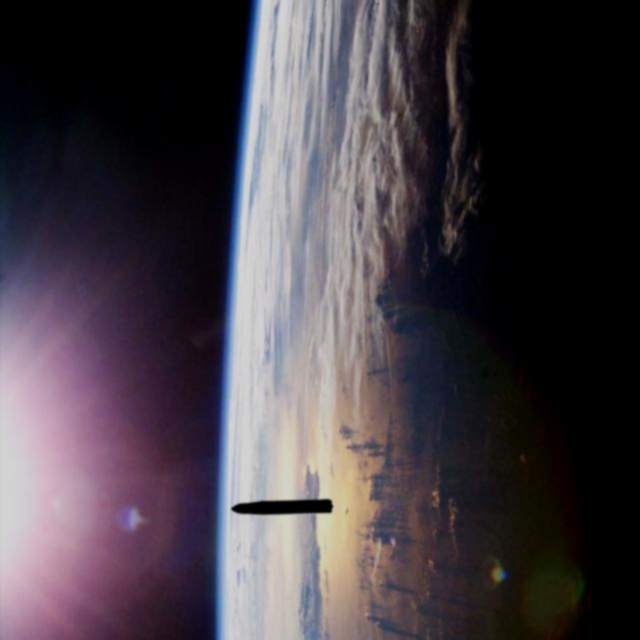rocket: (227, 487, 340, 524)
